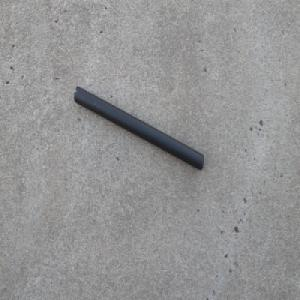LuggagePart: (73, 84, 205, 172)
